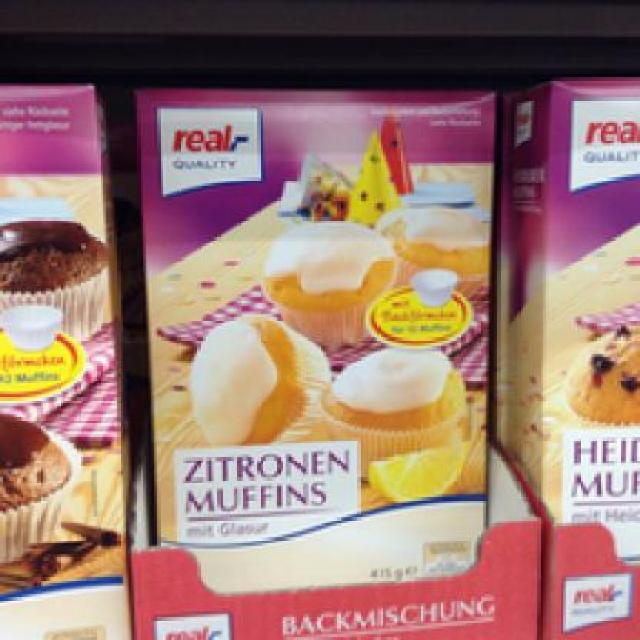Cake: (128, 83, 498, 580)
